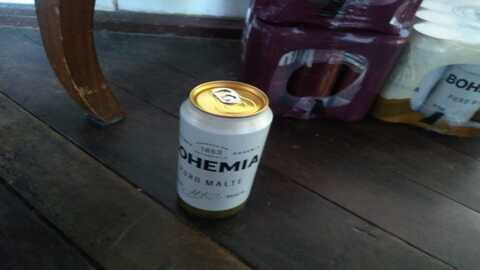bohemia: (180, 79, 273, 213), (430, 59, 480, 129)
